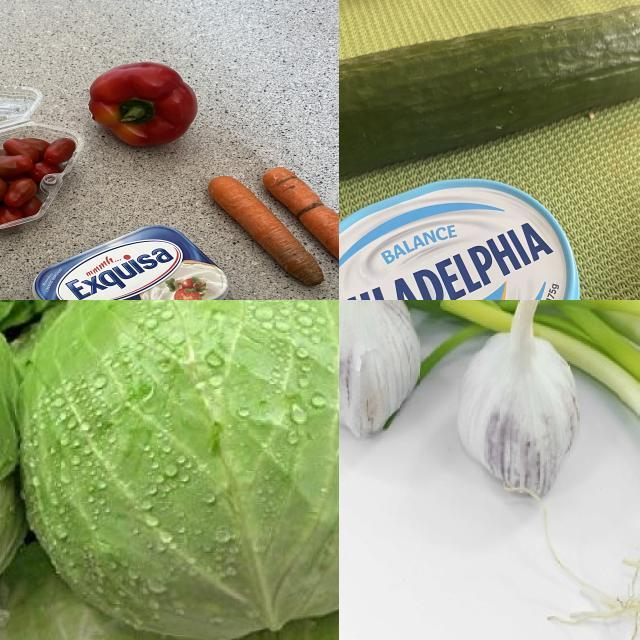bell_pepper: (84, 64, 209, 150)
cabbage: (21, 301, 340, 640), (1, 570, 269, 640)
carrot: (193, 173, 340, 292)
cucumber: (340, 2, 640, 187)
garlic: (461, 301, 580, 497), (340, 301, 420, 439)
tomato: (1, 158, 37, 205)
